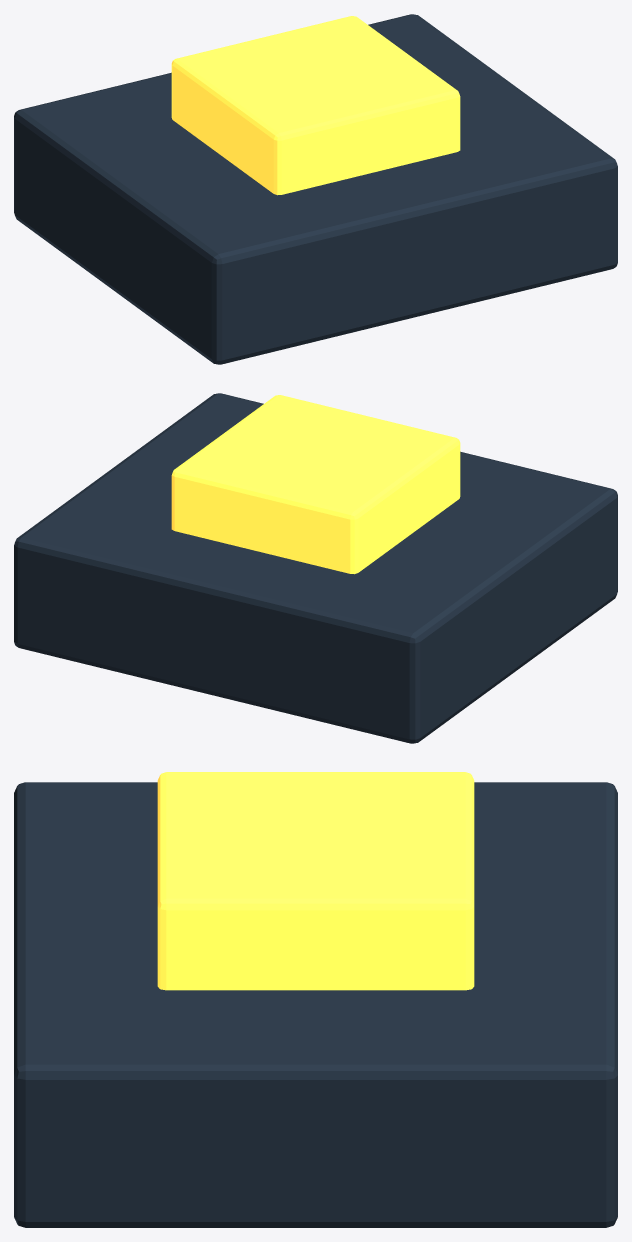
The model's file is rebar-gantry-trolley-v4-low.glb.
3 renders of one model, top to bottom at view 1: azimuth 30°, elevation 25°; view 2: azimuth 150°, elevation 25°; view 3: azimuth 270°, elevation 25°, orthographic. The views are drawn at different scales.
Visible parts, largest first — view 1: cr-trolley-frame.001, cr-trolley-drum.001; view 2: cr-trolley-frame.001, cr-trolley-drum.001; view 3: cr-trolley-frame.001, cr-trolley-drum.001.
Boxes of the visible parts, left/top/right/bottom form: cr-trolley-frame.001: left=14, top=14, right=617, bottom=364; cr-trolley-drum.001: left=171, top=16, right=460, bottom=195; cr-trolley-frame.001: left=14, top=393, right=617, bottom=743; cr-trolley-drum.001: left=171, top=395, right=460, bottom=574; cr-trolley-frame.001: left=14, top=782, right=617, bottom=1227; cr-trolley-drum.001: left=157, top=772, right=474, bottom=990.
Size of the model in its own units: 4.8 by 1.93 by 4.2.
